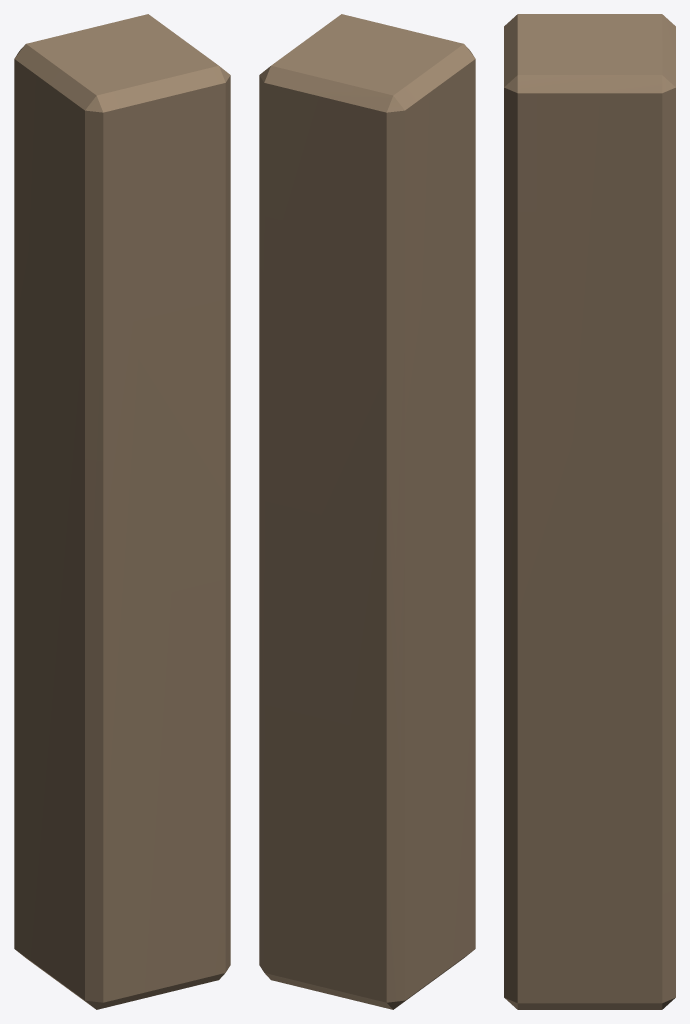
File: rope_rail_post.glb
The picture shows the model from 3 angles, left to right: view 1: azimuth 30°, elevation 25°; view 2: azimuth 150°, elevation 25°; view 3: azimuth 270°, elevation 25°; orthographic projection. The views are drawn at different scales.
Size of the model in its own units: 0.15 by 0.9 by 0.15.
